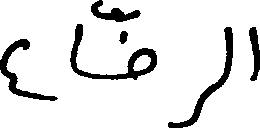ا: (68, 22, 83, 78), (246, 25, 259, 81)
ر: (177, 86, 207, 126)
ض: (113, 29, 156, 80)
ع: (0, 37, 27, 99)
ل: (218, 25, 232, 89)
